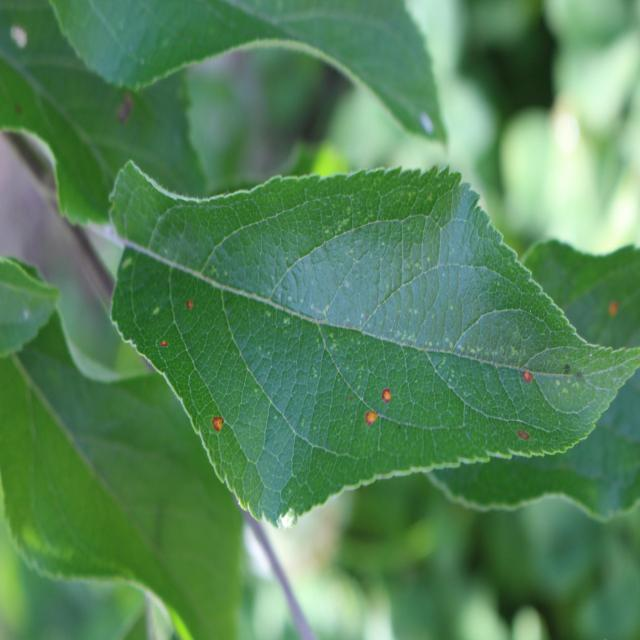Rust: (193, 397, 235, 455), (604, 288, 629, 344), (357, 400, 390, 438), (376, 378, 405, 420), (518, 352, 542, 402), (506, 420, 541, 450), (176, 286, 201, 320), (151, 330, 176, 350)
